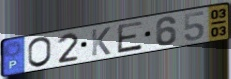2: (56, 31, 80, 64)
5: (183, 10, 206, 42)
6: (155, 15, 178, 47)
E: (116, 20, 145, 55)
K: (90, 26, 112, 58)
O: (27, 36, 53, 69)
